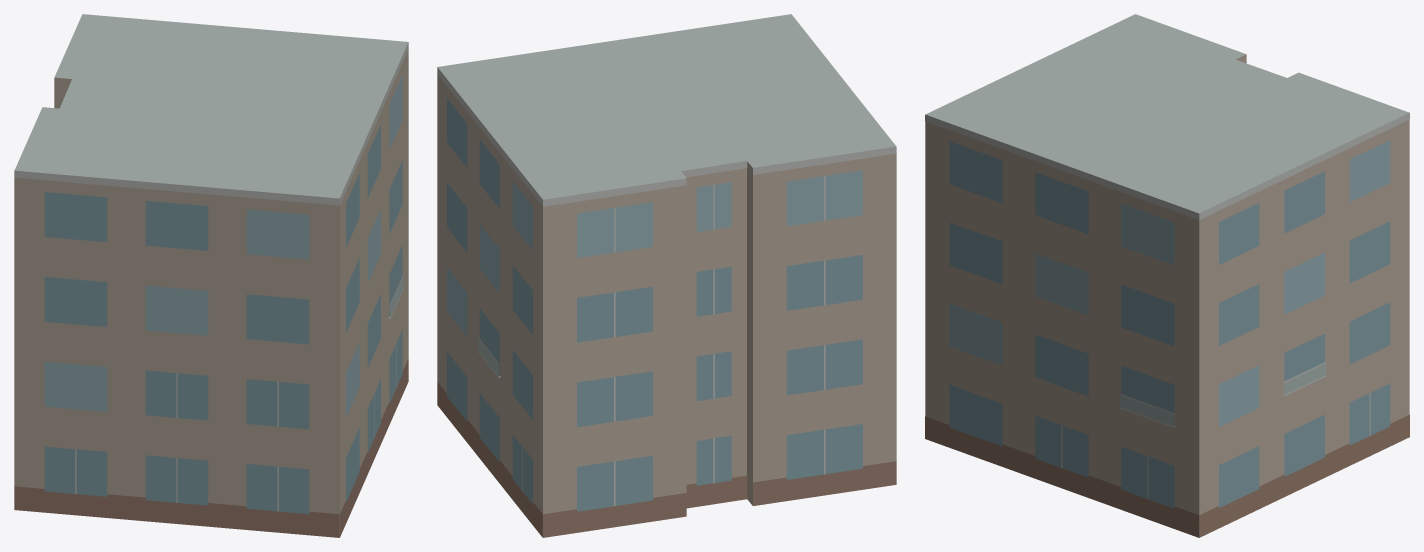
The model's file is survey-upis-32670178.glb.
The picture shows the model from 3 angles, left to right: view 1: azimuth 30°, elevation 25°; view 2: azimuth 150°, elevation 25°; view 3: azimuth 270°, elevation 25°; orthographic projection. The views are drawn at different scales.
Parts seen in each view (by area): view 1: survey-upis-32670178.tmp; view 2: survey-upis-32670178.tmp; view 3: survey-upis-32670178.tmp.
Part boxes in pixels (bbox=[...]): survey-upis-32670178.tmp: bbox=[14, 14, 408, 537]; survey-upis-32670178.tmp: bbox=[437, 14, 896, 537]; survey-upis-32670178.tmp: bbox=[925, 14, 1409, 537].
Bounding box in the file's own units: 15.43 × 11.7 × 15.84.
